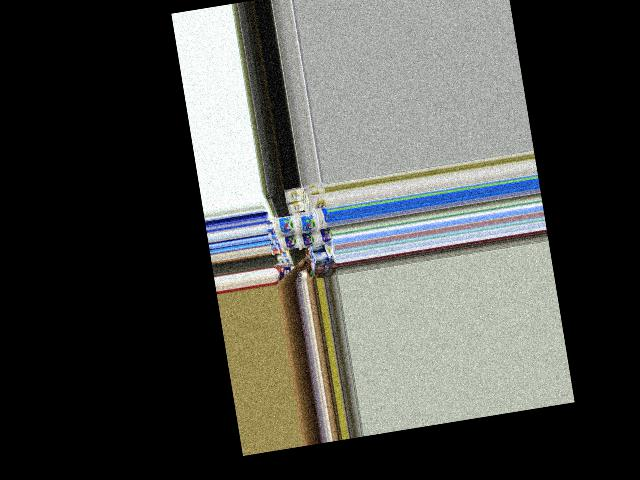cotage: (296, 228, 318, 248)
